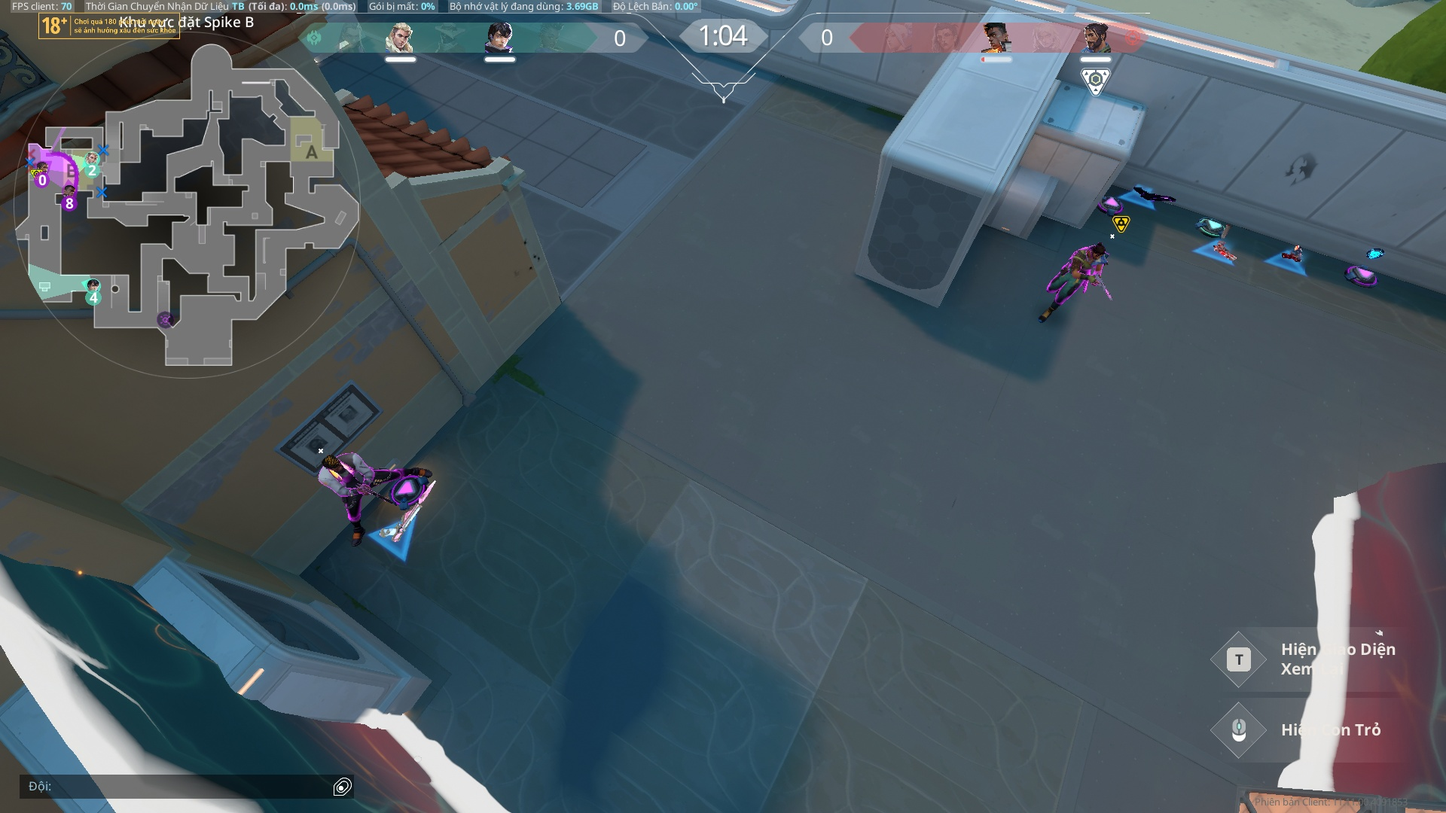body: (319, 444, 371, 491)
head: (320, 458, 343, 471)
